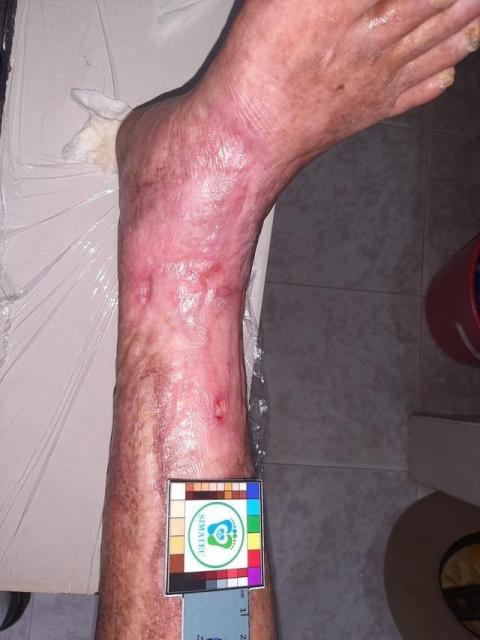wound: (137, 271, 153, 304), (213, 397, 226, 422)
